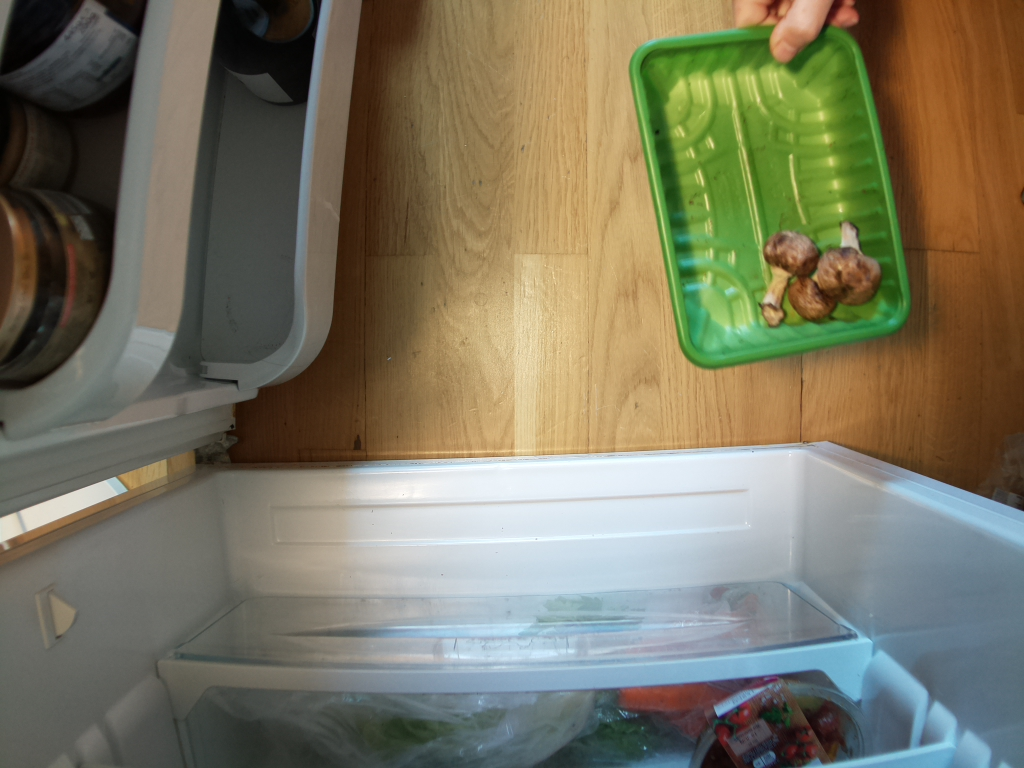mushrooms-bad: (632, 30, 920, 356)
